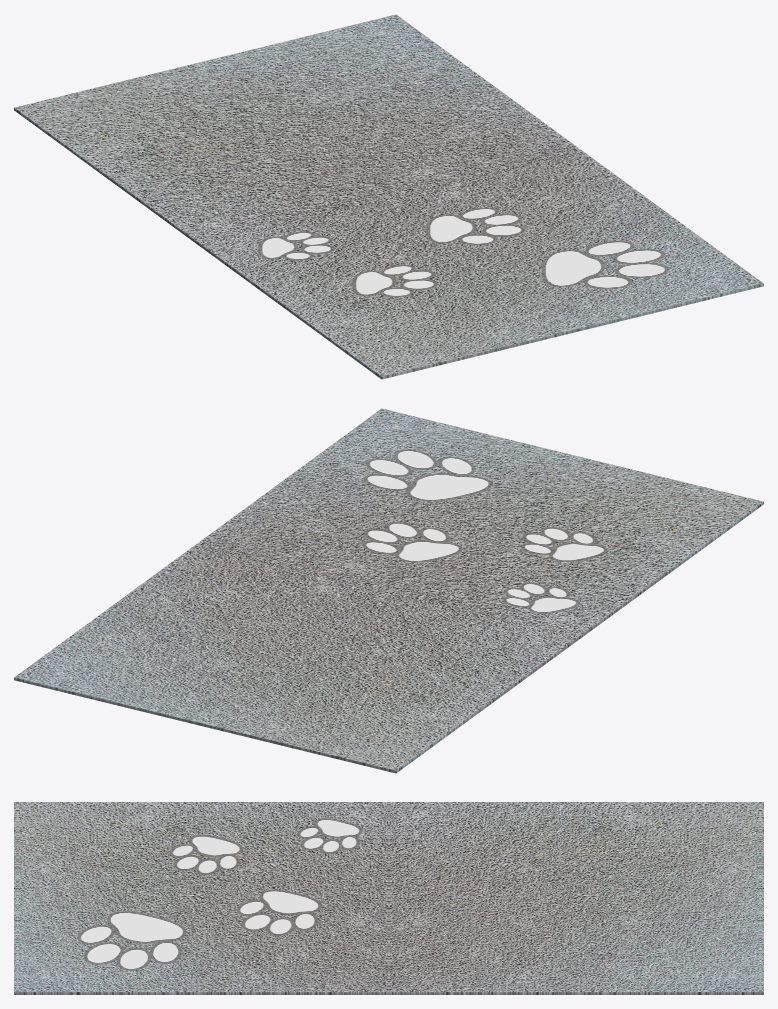
The model's file is Tapete-Verde.FBX.
The picture shows the model from 3 angles, top to bottom: view 1: azimuth 30°, elevation 25°; view 2: azimuth 150°, elevation 25°; view 3: azimuth 270°, elevation 25°; orthographic projection.
Visible parts, largest first — view 1: Box012; view 2: Box012; view 3: Box012.
Part boxes in pixels (x1,y1,x2,y2): Box012: [14, 14, 763, 379]; Box012: [14, 408, 763, 773]; Box012: [14, 802, 763, 994].
Size of the model in its own units: 300 by 500 by 2.
